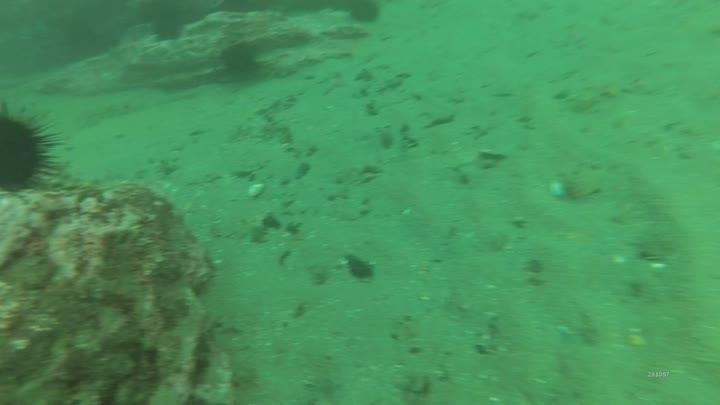echinus: (1, 99, 67, 196), (217, 39, 264, 84), (142, 4, 189, 49), (343, 1, 384, 28), (214, 1, 258, 21)
